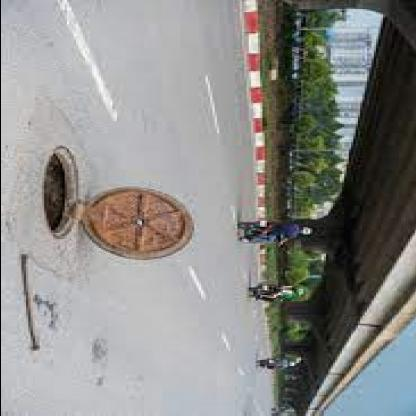manholes: (27, 142, 198, 266)
